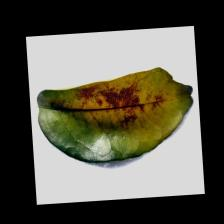black spot: (67, 87, 158, 136)
